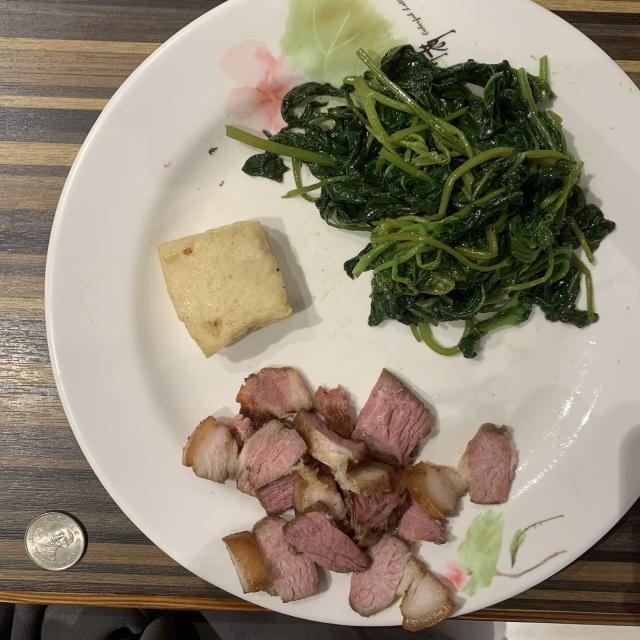coin: (25, 511, 85, 570)
creamy tofu -without sauce-: (159, 221, 292, 358)
grilled pork: (182, 368, 515, 631)
sweet potato leaves: (229, 45, 615, 358)
